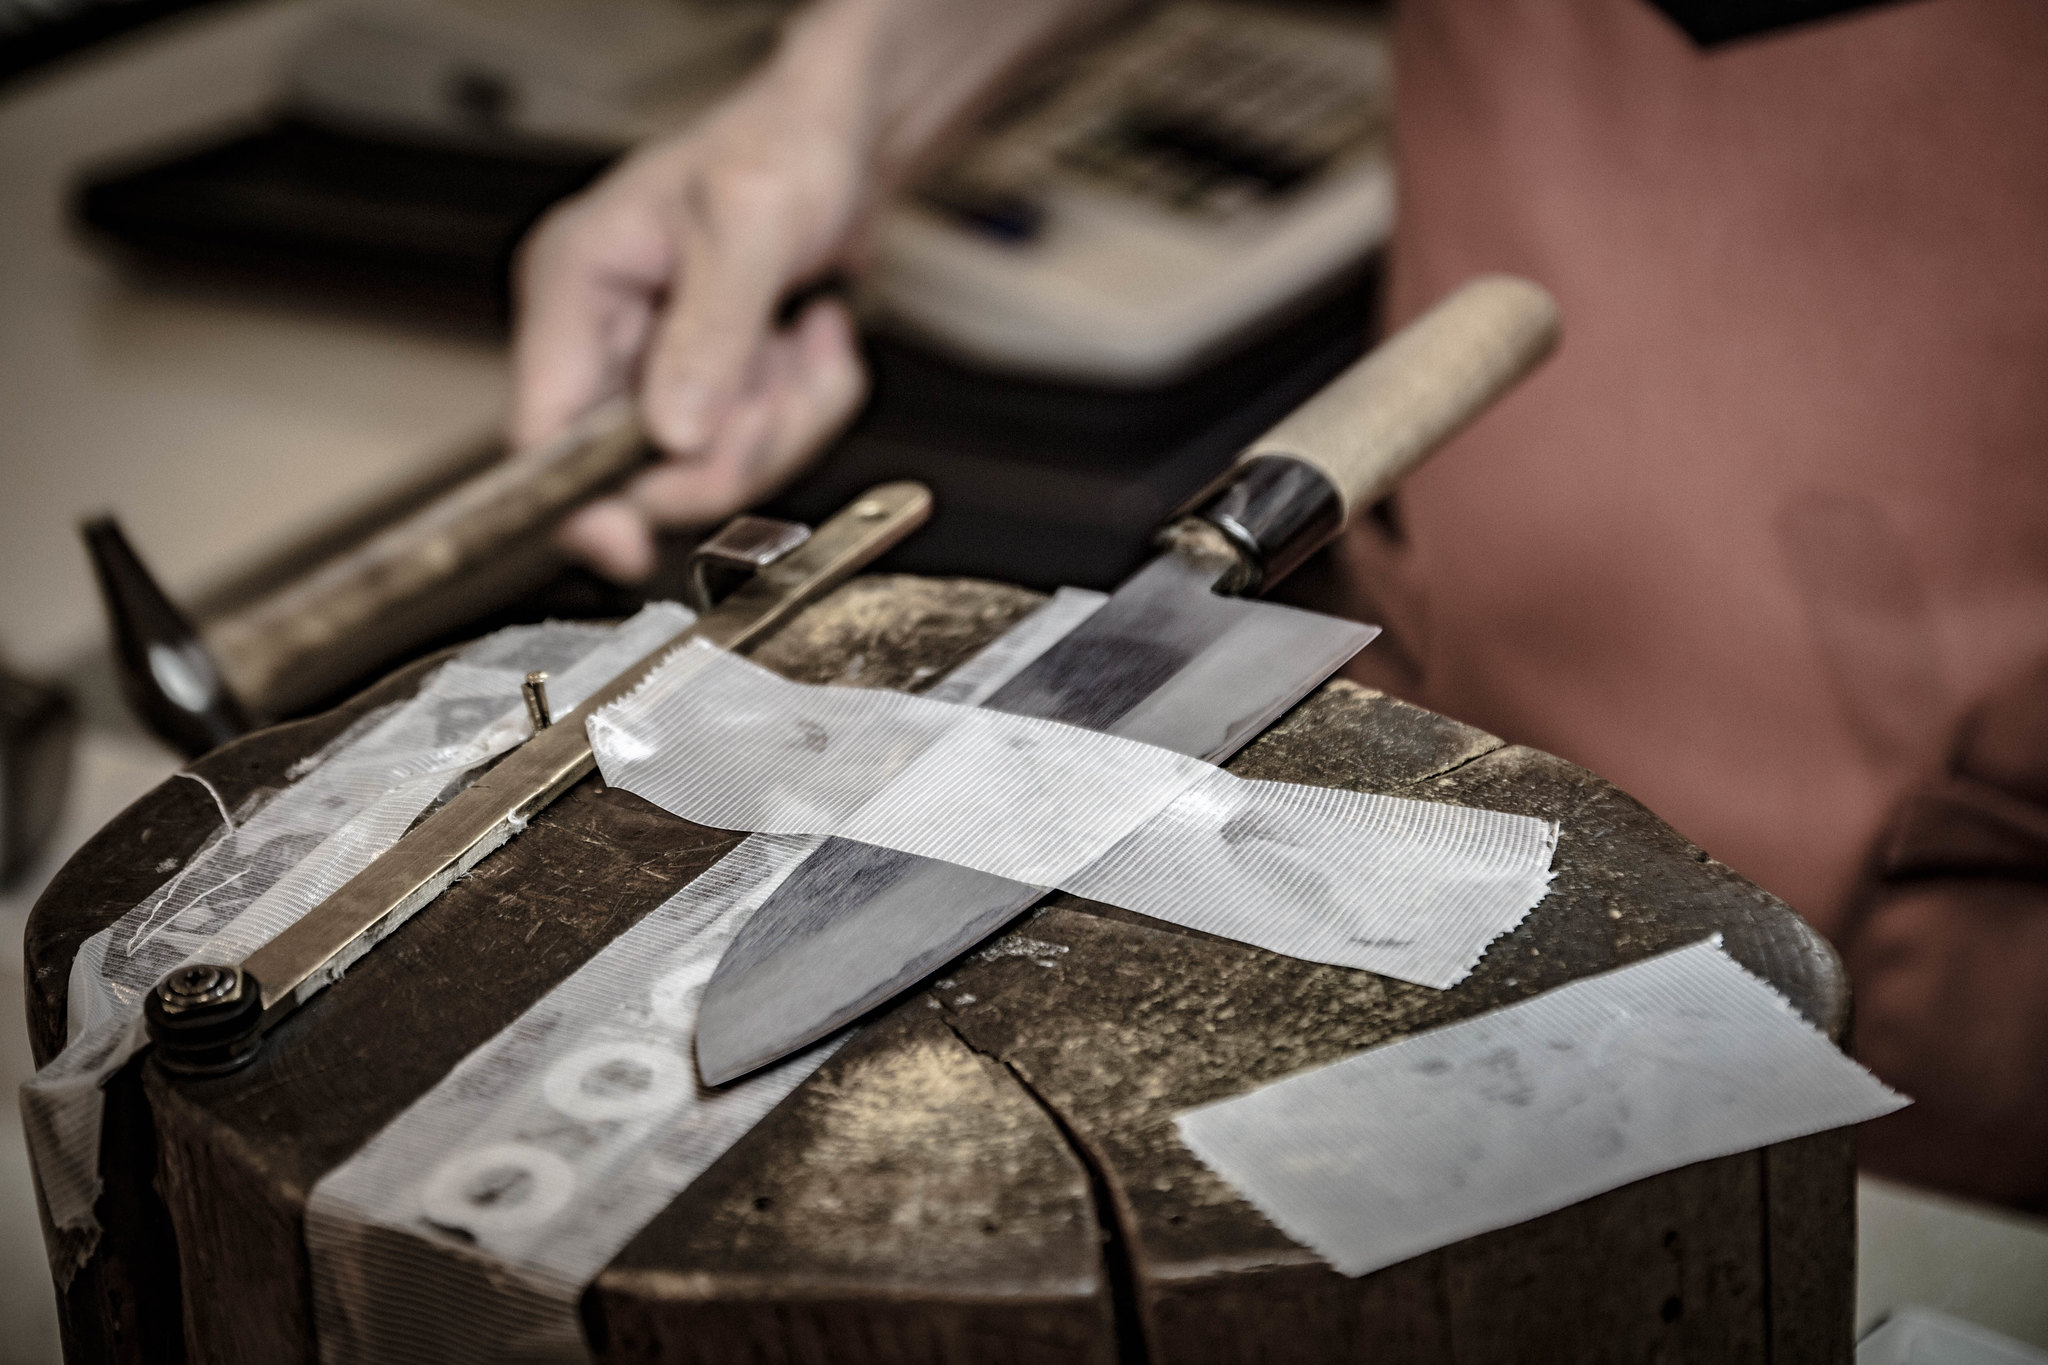knife: (658, 267, 1654, 1104)
